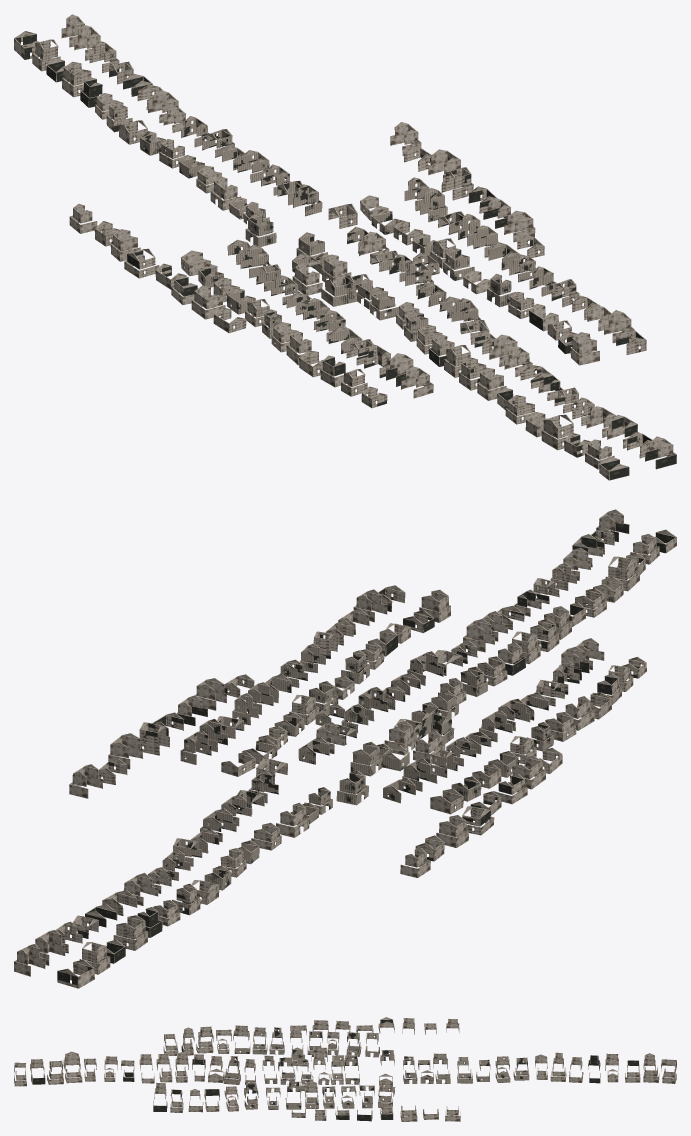
Rendered from canal_plaster.glb.
3 views of the same model, one above another, from view 1: azimuth 30°, elevation 25°; view 2: azimuth 150°, elevation 25°; view 3: azimuth 270°, elevation 25° (orthographic). The views are drawn at different scales.
Visible parts, largest first — view 1: canal_plaster1, canal_plaster2, canal_plaster0; view 2: canal_plaster1, canal_plaster2, canal_plaster0; view 3: canal_plaster1, canal_plaster2, canal_plaster0.
Part boxes in pixels (x1=…): canal_plaster1: x1=14, y1=14, x2=676, y2=480; canal_plaster2: x1=69, y1=122, x2=646, y2=408; canal_plaster0: x1=210, y1=164, x2=460, y2=329; canal_plaster1: x1=14, y1=509, x2=676, y2=988; canal_plaster2: x1=69, y1=585, x2=646, y2=877; canal_plaster0: x1=220, y1=675, x2=466, y2=837; canal_plaster1: x1=14, y1=1027, x2=676, y2=1086; canal_plaster2: x1=153, y1=1017, x2=460, y2=1121; canal_plaster0: x1=244, y1=1047, x2=450, y2=1090.
Size of the model in its own units: 117 by 8.16 by 346.
1 material, 1 textured.
